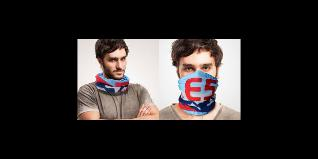mask_weared_incorrect: (103, 55, 131, 85)
with_mask: (180, 60, 216, 91)
